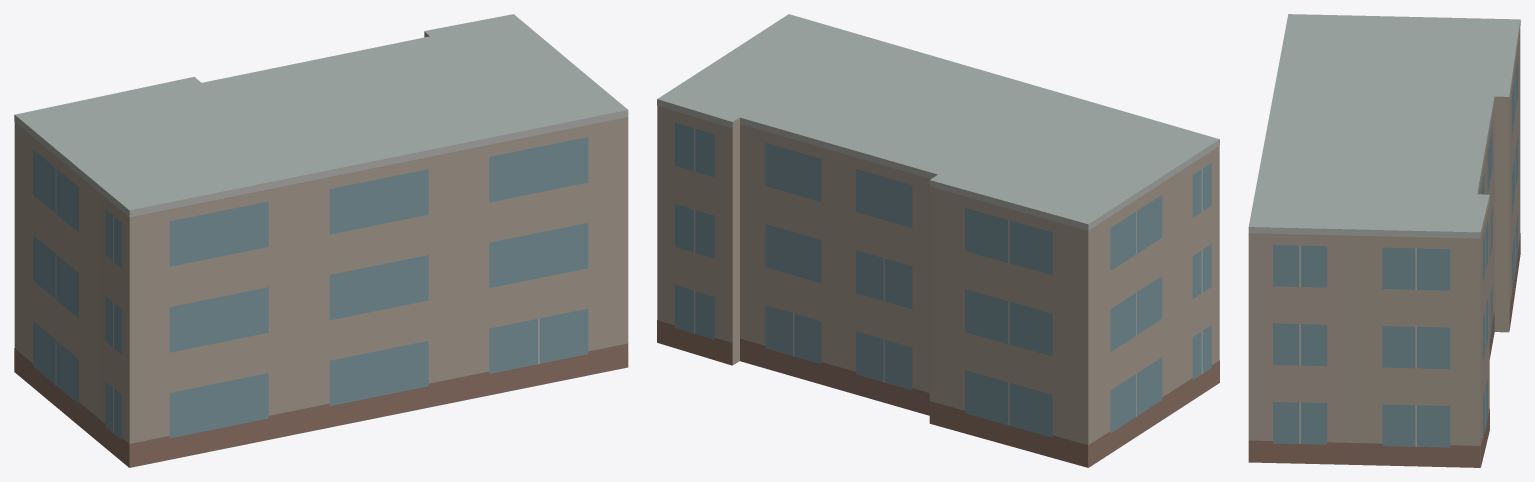
Rendered from survey-upis-32485518.glb.
3 views of the same model, side by side, from view 1: azimuth 30°, elevation 25°; view 2: azimuth 150°, elevation 25°; view 3: azimuth 270°, elevation 25° (orthographic). The views are drawn at different scales.
Parts seen in each view (by area): view 1: survey-upis-32485518.tmp; view 2: survey-upis-32485518.tmp; view 3: survey-upis-32485518.tmp.
Part boxes in pixels (x1,y1,x2,y2): survey-upis-32485518.tmp: (14, 14, 628, 467); survey-upis-32485518.tmp: (657, 14, 1219, 467); survey-upis-32485518.tmp: (1248, 14, 1520, 467).
Bounding box in the file's own units: 18.22 × 9.15 × 9.58.
